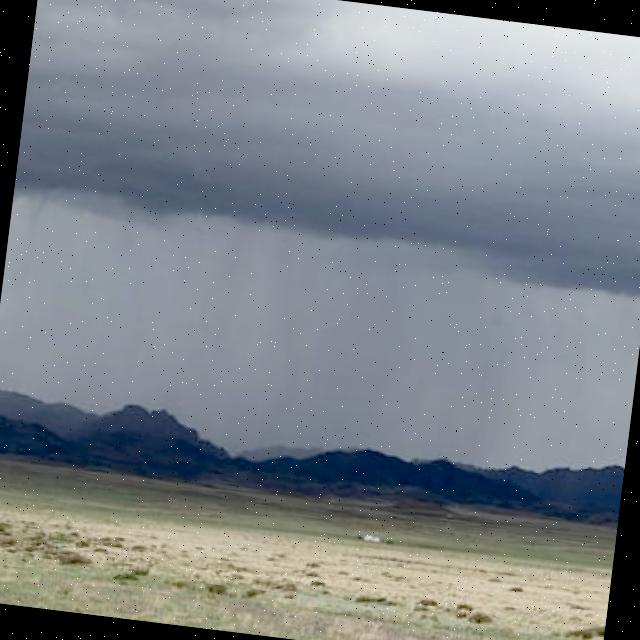Ns: (10, 1, 640, 303)
